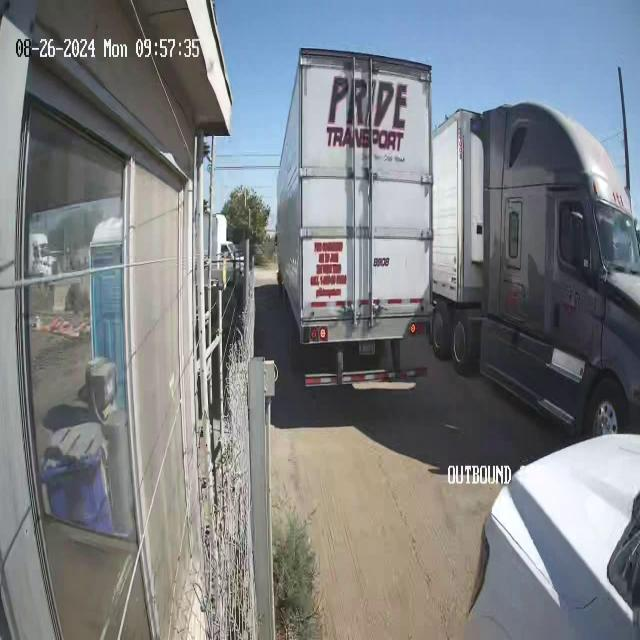TRUCK_CONTAINER: (435, 101, 639, 434), (276, 45, 434, 388)
